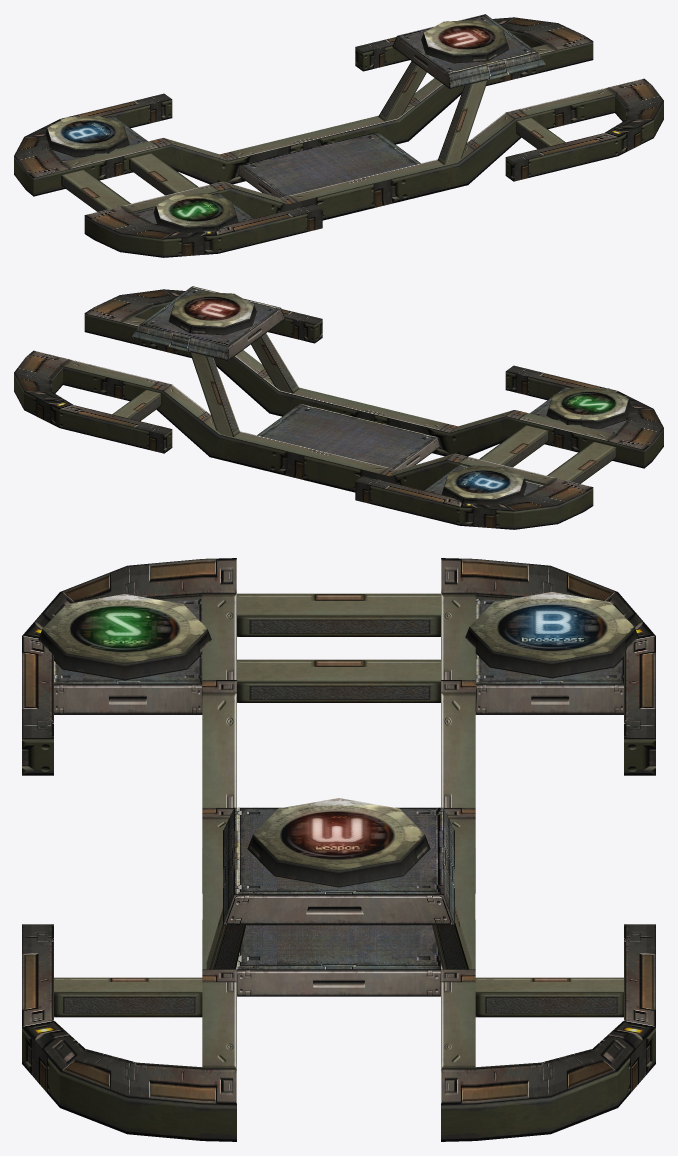
Rendered from light_unit.obj.
3 views of the same model, one above another, from view 1: azimuth 30°, elevation 25°; view 2: azimuth 150°, elevation 25°; view 3: azimuth 270°, elevation 25° (orthographic). The views are drawn at different scales.
Parts seen in each view (by area): view 1: pCube1 group1, group1 pCube2, group1 pCube3, group1 pCube3 pCube61, group1 pCylinder50, group1 pCylinder49, group1 pCylinder48, group1 pCube3 pCube62, group1 pCube4, group1 pCube5, group1 pCube3 pCube63, group1 pCube6 (+2 smaller); view 2: group1 pCube2, pCube1 group1, group1 pCube3, group1 pCube3 pCube61, group1 pCylinder50, group1 pCylinder48, group1 pCylinder49, group1 pCube3 pCube63, group1 pCube5, group1 pCube4, group1 pCube3 pCube62, group1 pCube7 (+2 smaller); view 3: pCube1 group1, group1 pCube2, group1 pCube3 pCube61, group1 pCube3, group1 pCylinder50, group1 pCylinder48, group1 pCylinder49, group1 pCube4, group1 pCube5, group1 pCube89, group1 pCube88, group1 pCube6 (+3 smaller).
Part boxes in pixels (left/top/right/bottom): pCube1 group1: left=84, top=78, right=663, bottom=257; group1 pCube2: left=14, top=17, right=593, bottom=196; group1 pCube3: left=238, top=131, right=420, bottom=197; group1 pCube3 pCube61: left=392, top=14, right=546, bottom=89; group1 pCylinder50: left=421, top=20, right=509, bottom=63; group1 pCylinder49: left=45, top=115, right=129, bottom=157; group1 pCylinder48: left=153, top=193, right=238, bottom=232; group1 pCube3 pCube62: left=438, top=80, right=487, bottom=164; group1 pCube4: left=129, top=153, right=198, bottom=195; group1 pCube5: left=61, top=169, right=130, bottom=211; group1 pCube3 pCube63: left=378, top=61, right=426, bottom=121; group1 pCube6: left=516, top=118, right=565, bottom=149; group1 pCube2: left=14, top=350, right=593, bottom=529; pCube1 group1: left=84, top=289, right=663, bottom=468; group1 pCube3: left=257, top=403, right=439, bottom=469; group1 pCube3 pCube61: left=131, top=286, right=285, bottom=361; group1 pCylinder50: left=168, top=292, right=256, bottom=335; group1 pCylinder48: left=546, top=386, right=630, bottom=428; group1 pCylinder49: left=442, top=465, right=526, bottom=505; group1 pCube3 pCube63: left=190, top=352, right=239, bottom=436; group1 pCube5: left=547, top=441, right=616, bottom=483; group1 pCube4: left=479, top=425, right=548, bottom=467; group1 pCube3 pCube62: left=251, top=333, right=299, bottom=393; group1 pCube7: left=112, top=390, right=161, bottom=421; pCube1 group1: left=22, top=558, right=236, bottom=1141; group1 pCube2: left=441, top=558, right=655, bottom=1141; group1 pCube3 pCube61: left=223, top=807, right=454, bottom=925; group1 pCube3: left=237, top=925, right=440, bottom=996; group1 pCylinder50: left=247, top=798, right=430, bottom=887; group1 pCylinder48: left=38, top=594, right=211, bottom=680; group1 pCylinder49: left=465, top=592, right=638, bottom=678; group1 pCube4: left=237, top=659, right=440, bottom=702; group1 pCube5: left=237, top=593, right=440, bottom=636; group1 pCube89: left=475, top=599, right=623, bottom=714; group1 pCube88: left=54, top=599, right=202, bottom=714; group1 pCube6: left=54, top=977, right=202, bottom=1017.
Bounding box in the file's own units: 31.24 × 6.14 × 15.32.
5 materials, 5 textured.
